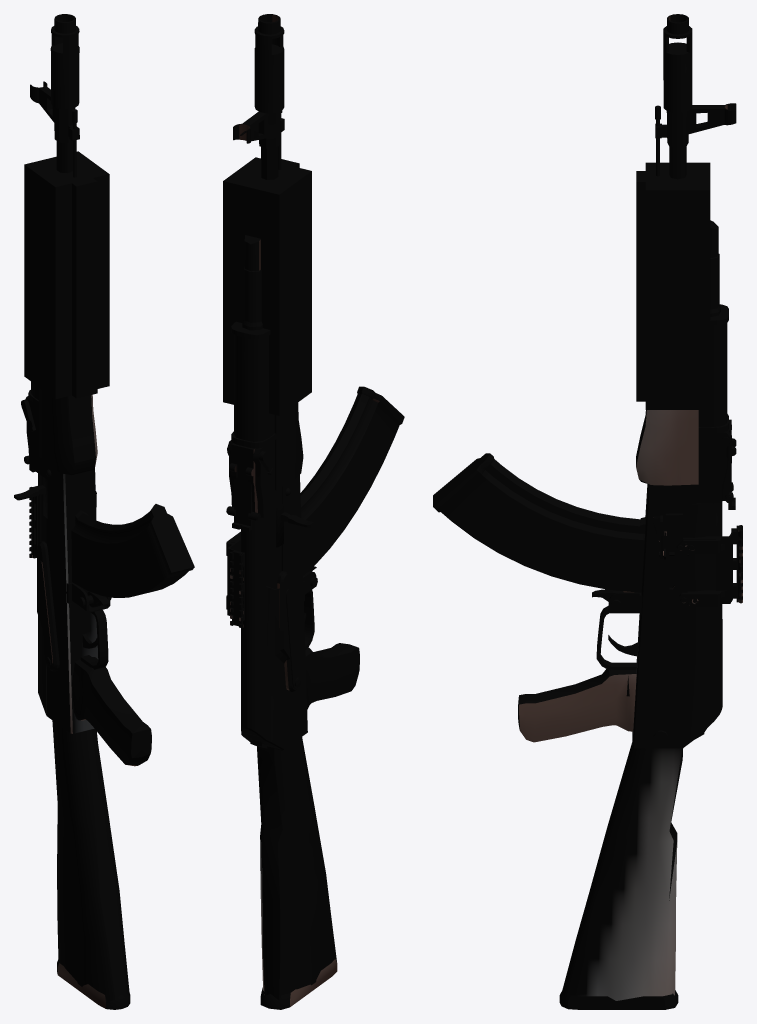
Rendered from AK74__Handguard_AK_Quad__Mount_AK_SideRail.fbx.
3 renders of one model, left to right at view 1: azimuth 30°, elevation 25°; view 2: azimuth 150°, elevation 25°; view 3: azimuth 270°, elevation 25°, orthographic. The views are drawn at different scales.
Visible parts, largest first — view 1: asset_AK74.001; view 2: asset_AK74.001; view 3: asset_AK74.001.
Boxes of the visible parts, box(x1,y1,x2,y2) form: asset_AK74.001: box(14, 14, 194, 1009); asset_AK74.001: box(223, 14, 404, 1009); asset_AK74.001: box(433, 14, 742, 1009).
Size of the model in its own units: 0.046 by 0.564 by 0.1608.
